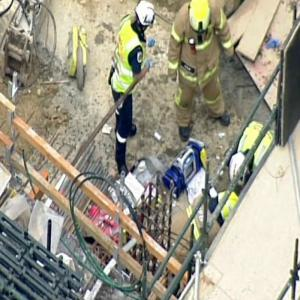white: (229, 150, 250, 190), (135, 2, 155, 35)
yellow: (189, 2, 211, 35)
